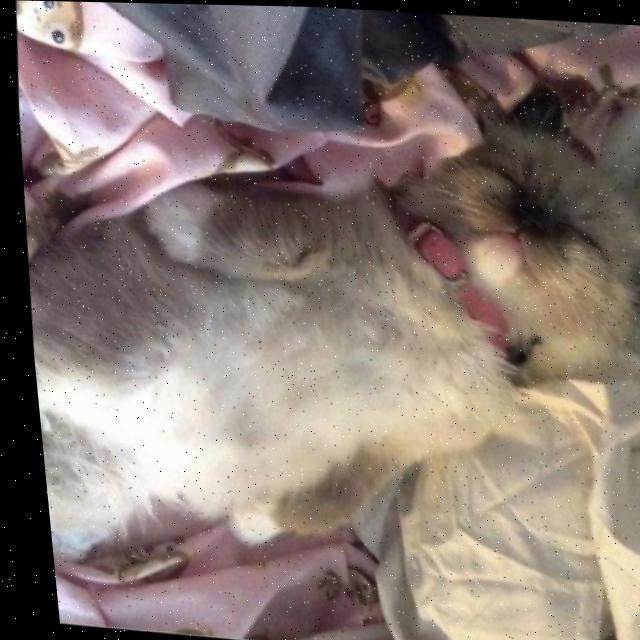Cats: (2, 32, 640, 615)
